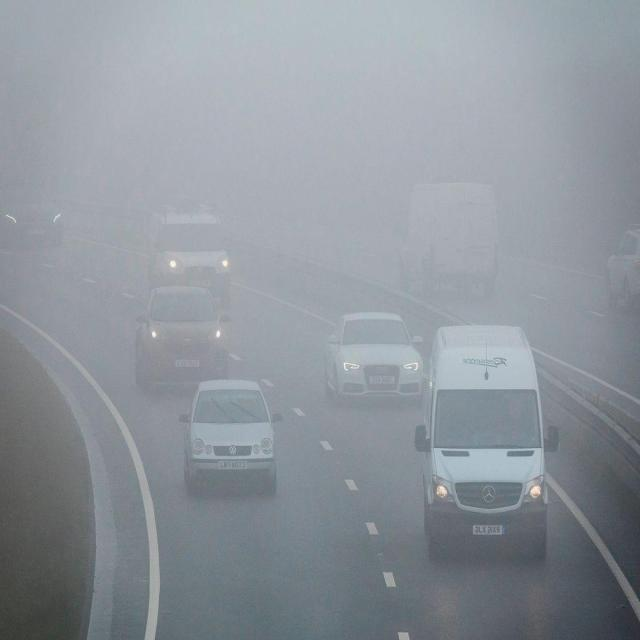Car: (181, 383, 278, 488), (326, 304, 427, 402), (127, 292, 232, 377)
Van: (415, 326, 559, 561)
